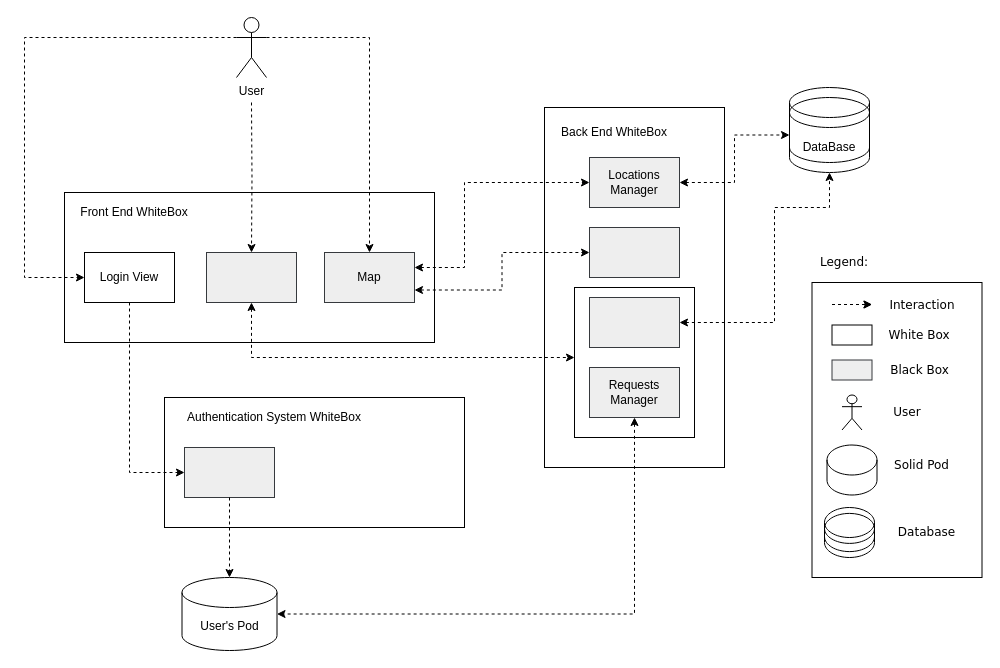
The diagram is 1000 pixels wide and 668 high, and some of its shapes have lost their labels. The shapes that lost their labels are listed below. From the top down, each one's centre as x and y in pixels, then its label:
the point at 634,252: Notifications Manager
the point at 251,277: List of Friends
the point at 634,322: State Manager
the point at 229,472: Login Manager
